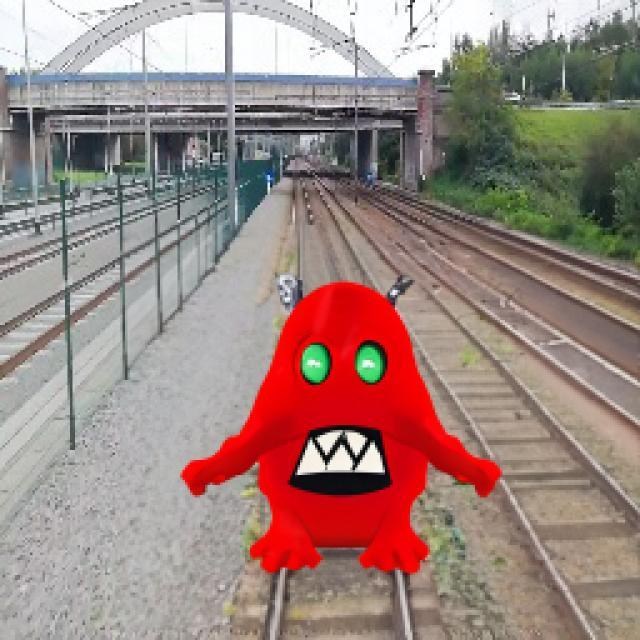danger: (168, 264, 519, 582)
rail: (219, 158, 457, 640)
